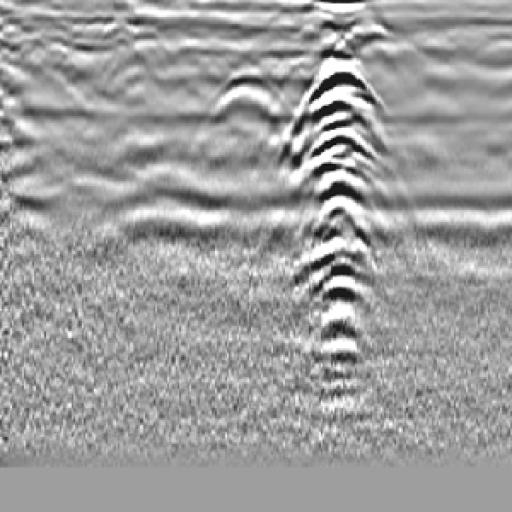metalic: (295, 22, 388, 371)
nonmetalic: (195, 66, 294, 169)
